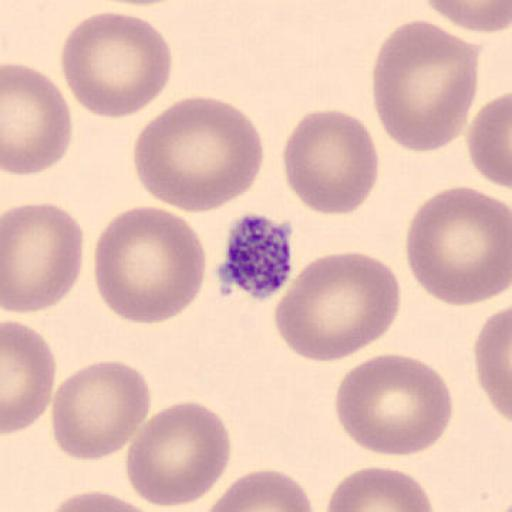Platelet: (214, 211, 297, 302)
RBC: (133, 94, 265, 214), (370, 18, 480, 154), (274, 250, 402, 362), (92, 204, 208, 326), (405, 185, 511, 307), (334, 352, 454, 459), (58, 10, 174, 120), (124, 399, 232, 508), (281, 107, 380, 217), (50, 359, 153, 462), (2, 200, 85, 314), (2, 61, 73, 177), (1, 320, 57, 435), (325, 465, 436, 512), (204, 468, 315, 512), (473, 303, 512, 424), (466, 90, 512, 191), (421, 0, 512, 35), (41, 489, 160, 512)
